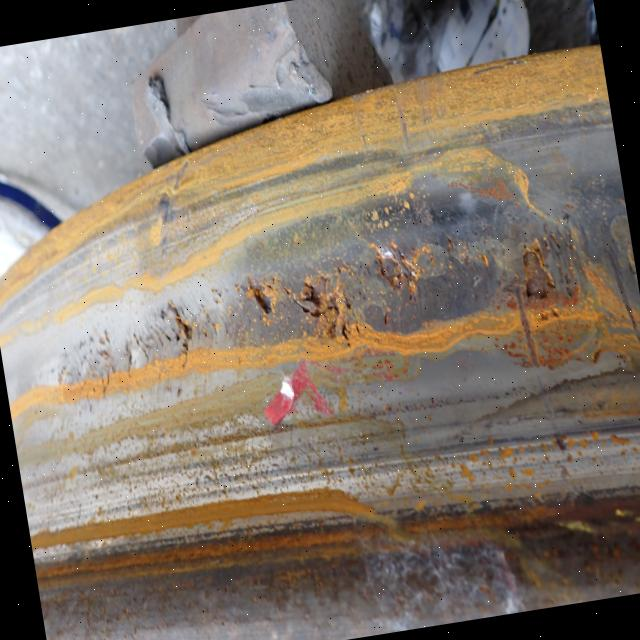Peeling: (294, 267, 366, 357), (518, 241, 552, 306), (168, 293, 195, 352), (375, 249, 404, 296), (250, 275, 279, 318)
